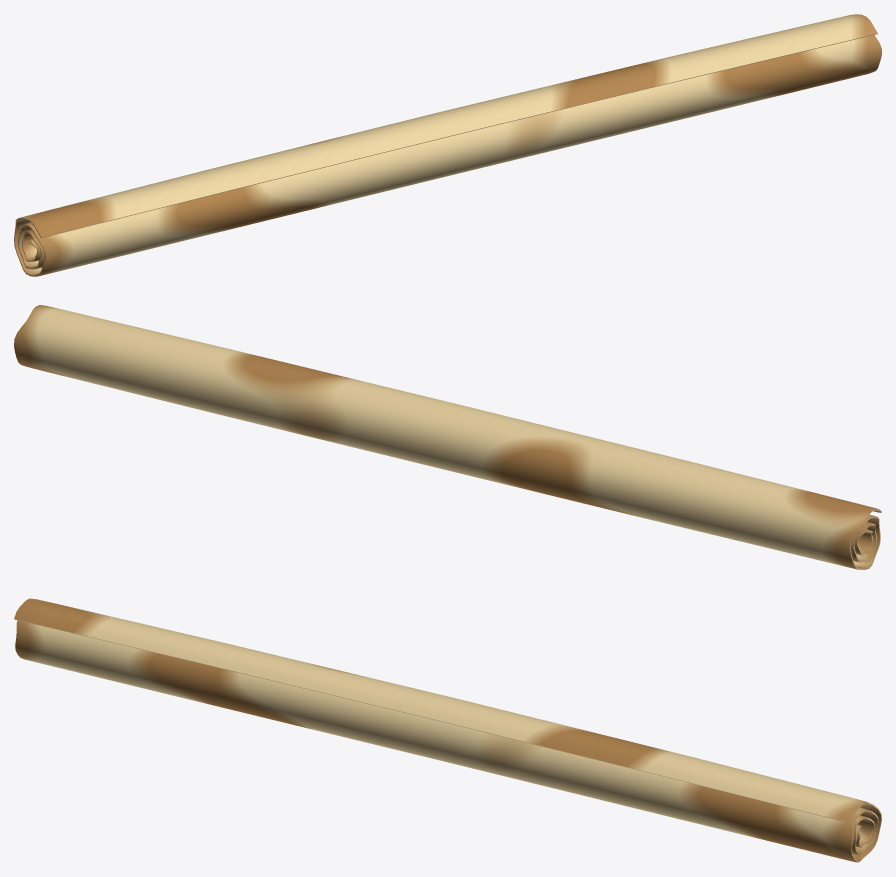
The model's file is chart_roll_03.glb.
3 renders of one model, top to bottom at view 1: azimuth 30°, elevation 25°; view 2: azimuth 150°, elevation 25°; view 3: azimuth 330°, elevation 25°, orthographic.
Parts seen in each view (by area): view 1: ChartRoll03; view 2: ChartRoll03; view 3: ChartRoll03.
Boxes of the visible parts, bbox=[...] form: ChartRoll03: bbox=[14, 14, 881, 276]; ChartRoll03: bbox=[14, 305, 881, 569]; ChartRoll03: bbox=[14, 598, 881, 862].
Size of the model in its own units: 0.6 by 0.04 by 0.04.
2 materials, 1 textured.
